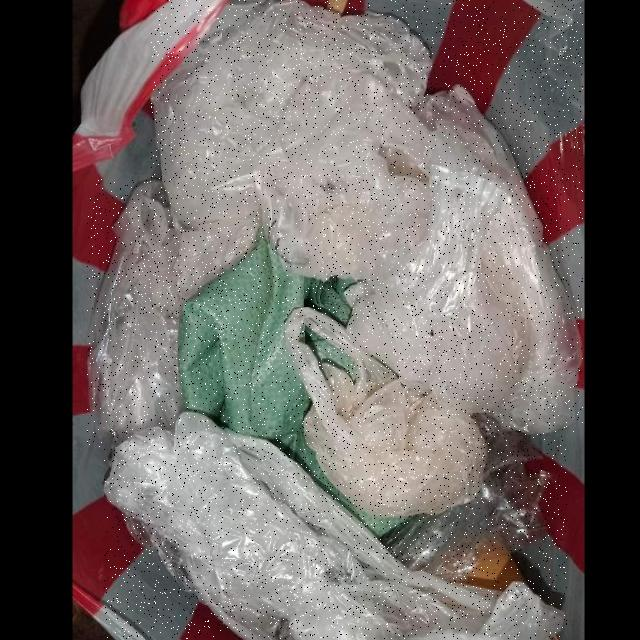plastic: (151, 0, 583, 436), (104, 412, 567, 639), (87, 179, 258, 447), (283, 308, 489, 518)
